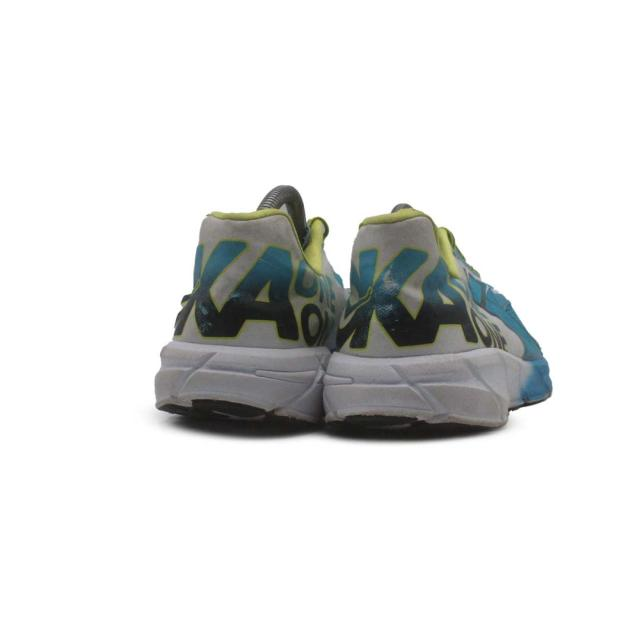heel: (166, 216, 328, 349), (337, 212, 473, 359)
midsole: (322, 349, 550, 430), (153, 341, 324, 432)
